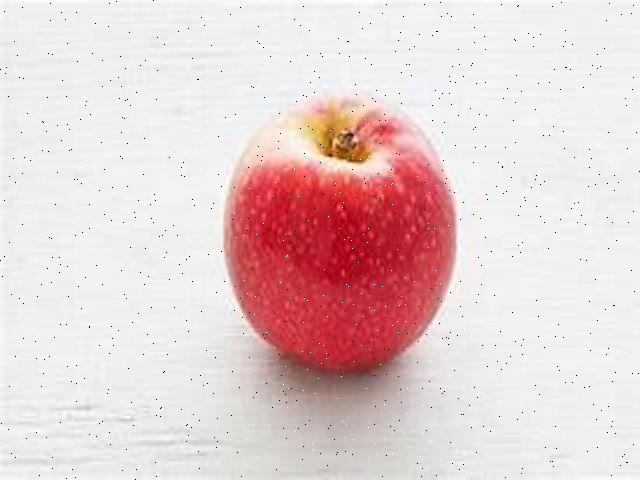apple: (219, 84, 462, 378)
